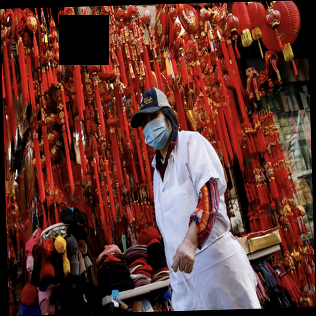with_mask: (209, 108, 253, 149)
